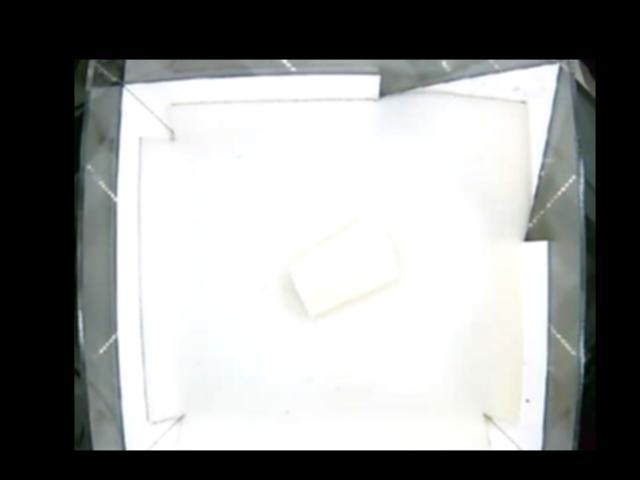Mooli: (288, 218, 397, 315)
